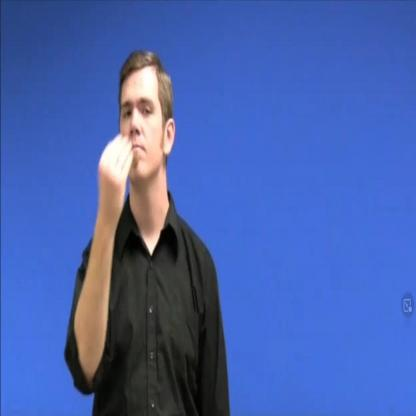Food: (93, 41, 181, 220)
